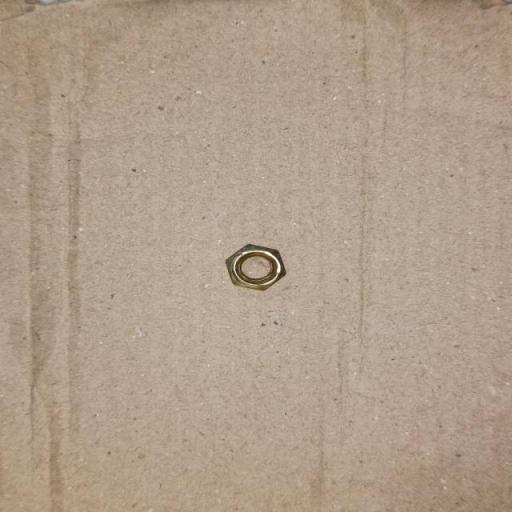Nut: (225, 243, 287, 291)
